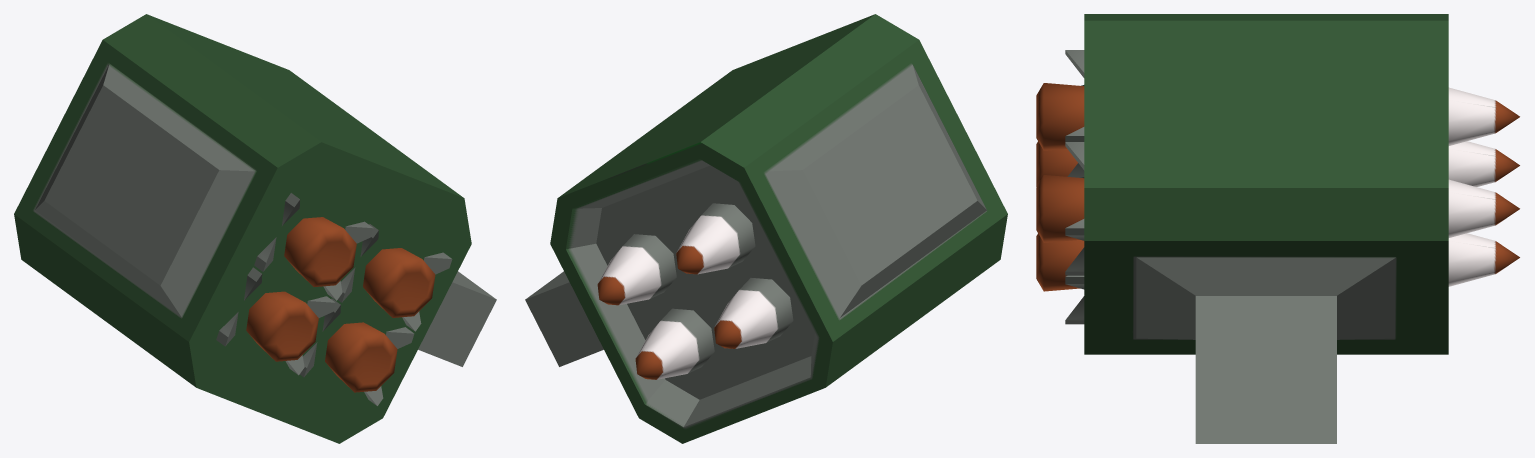
File: Rocket Pod.fbx
The picture shows the model from 3 angles, left to right: view 1: azimuth 30°, elevation 25°; view 2: azimuth 150°, elevation 25°; view 3: azimuth 270°, elevation 25°; orthographic projection. The views are drawn at different scales.
Parts seen in each view (by area): view 1: polySurface23; view 2: polySurface23; view 3: polySurface23.
Part boxes in pixels (bbox=[...]): polySurface23: bbox=[14, 14, 496, 443]; polySurface23: bbox=[525, 14, 1007, 443]; polySurface23: bbox=[1036, 14, 1519, 443].
Bounding box in the file's own units: 2.12 × 1.75 × 2.36.
Materials: 1 (1 with a texture image).
